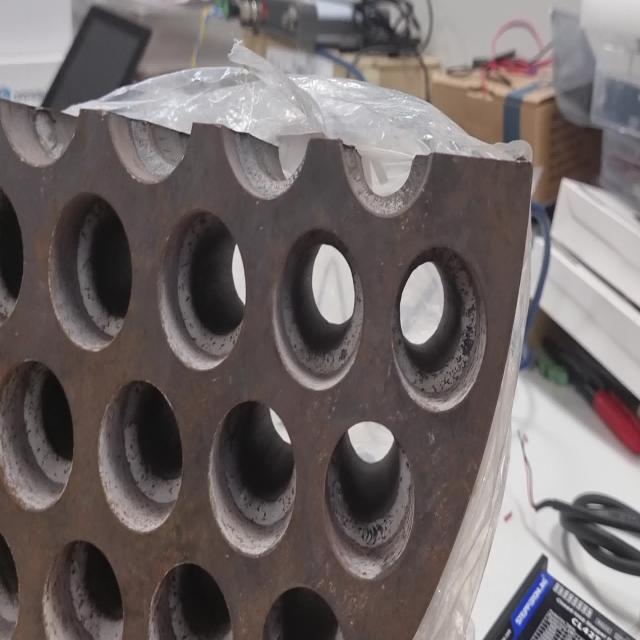Hole: (391, 241, 488, 412), (272, 226, 364, 392), (323, 420, 415, 580), (157, 209, 246, 372), (208, 398, 297, 556), (48, 192, 132, 352), (97, 378, 183, 534), (0, 359, 74, 512), (41, 538, 124, 639), (148, 560, 235, 640)
